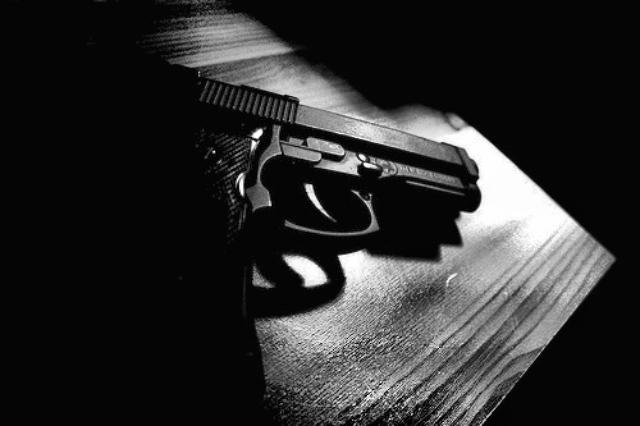pistol: (115, 46, 482, 336)
